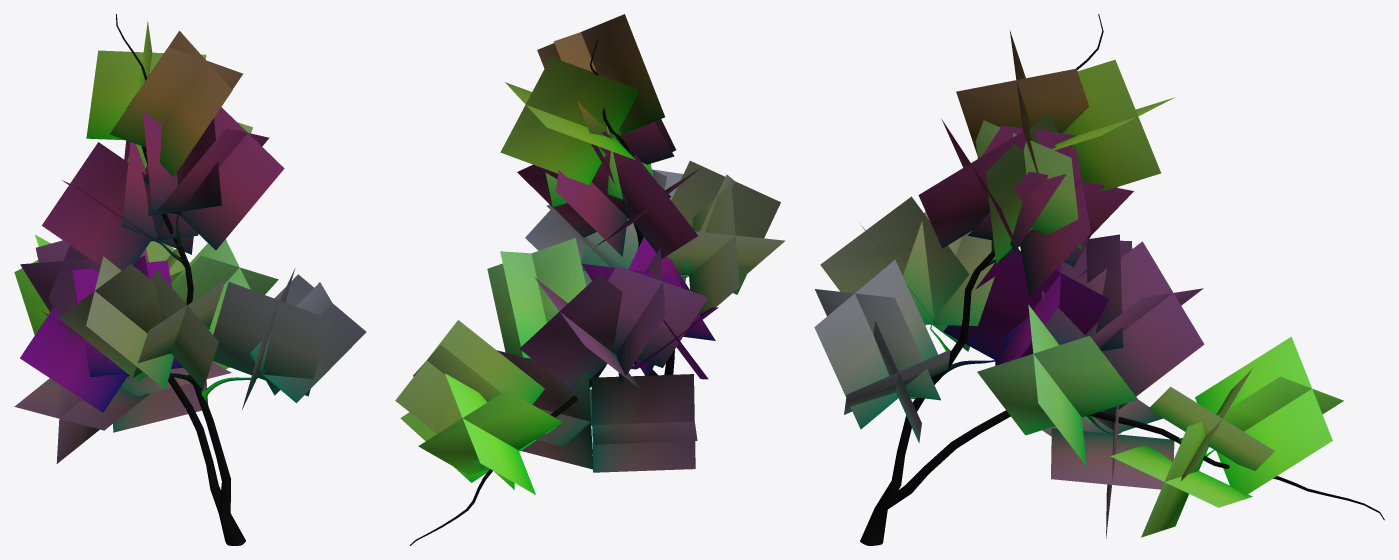
Rendered from URP_P12_Tree_16_LOD_1.fbx.
3 renders of one model, left to right at view 1: azimuth 30°, elevation 25°; view 2: azimuth 150°, elevation 25°; view 3: azimuth 270°, elevation 25°, orthographic. The views are drawn at different scales.
Parts seen in each view (by area): view 1: Tree_16_LOD_1; view 2: Tree_16_LOD_1; view 3: Tree_16_LOD_1.
Boxes of the visible parts, <box> form: Tree_16_LOD_1: <box>14,14,366,545</box>; Tree_16_LOD_1: <box>395,14,785,545</box>; Tree_16_LOD_1: <box>814,14,1384,545</box>.
Bounding box in the file's own units: 184 × 313 × 313.
